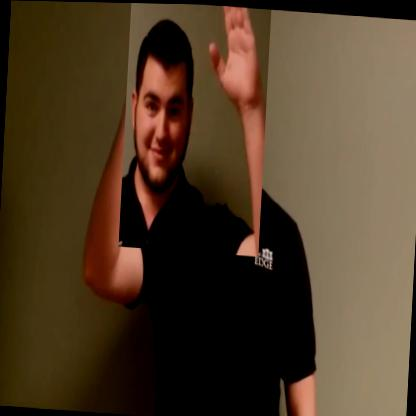Hello: (118, 2, 271, 255)
